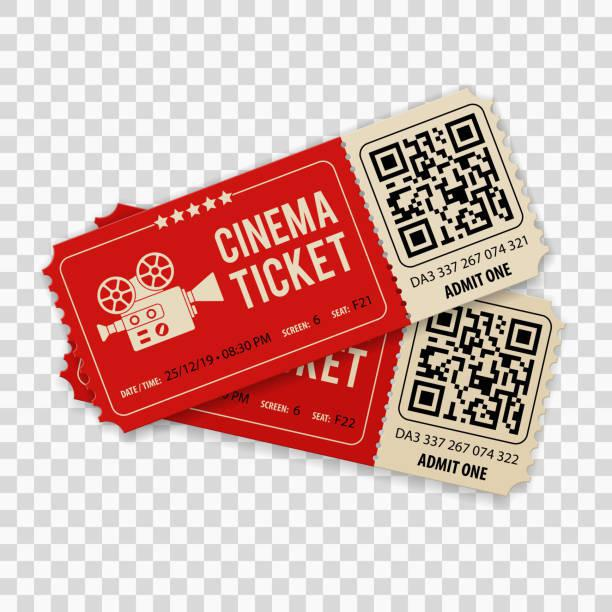Finder pattern: (443, 111, 488, 159), (366, 140, 411, 184), (405, 376, 448, 420), (396, 216, 438, 260), (504, 316, 545, 359), (423, 298, 465, 339)
